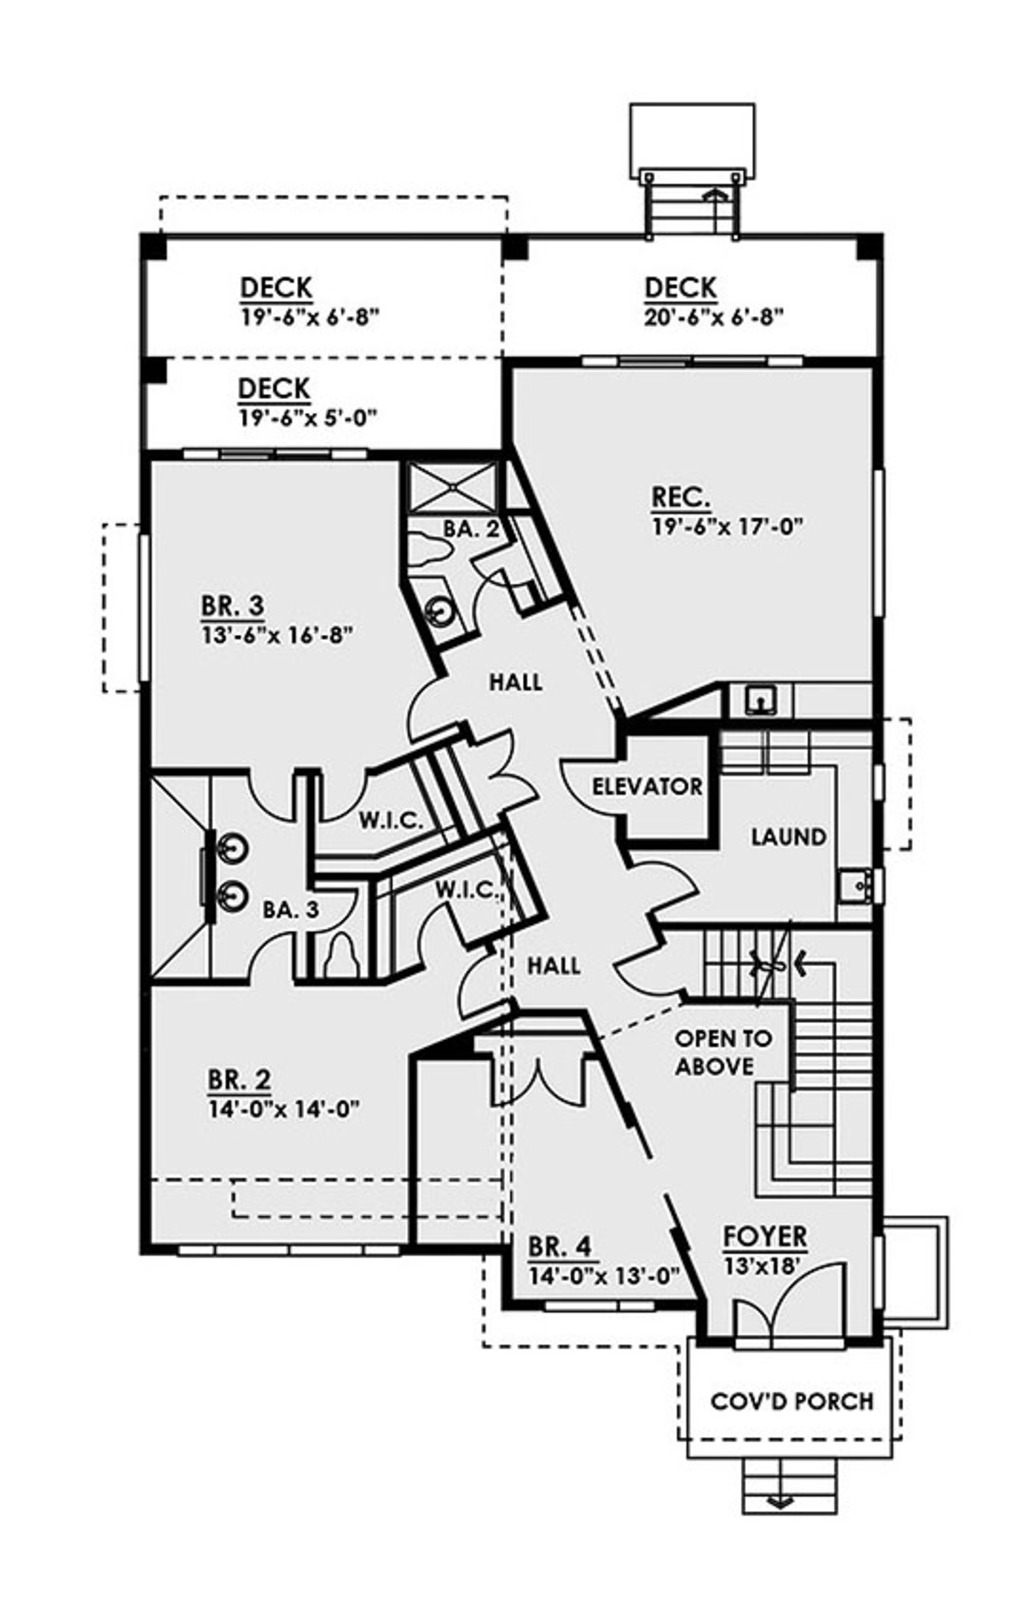door: (731, 1257, 853, 1341), (483, 1050, 602, 1122), (471, 717, 543, 813), (241, 759, 310, 831), (608, 939, 681, 1007), (624, 857, 703, 913), (396, 679, 465, 741), (236, 927, 307, 986), (407, 907, 471, 967), (550, 751, 613, 810), (455, 953, 507, 1022)
stairs: (692, 925, 872, 1206), (362, 755, 526, 956), (638, 157, 743, 248), (736, 1451, 841, 1524)
windows: (168, 443, 383, 465)
